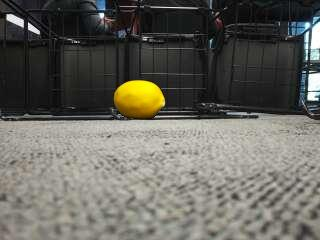lemon: (115, 81, 165, 119)
